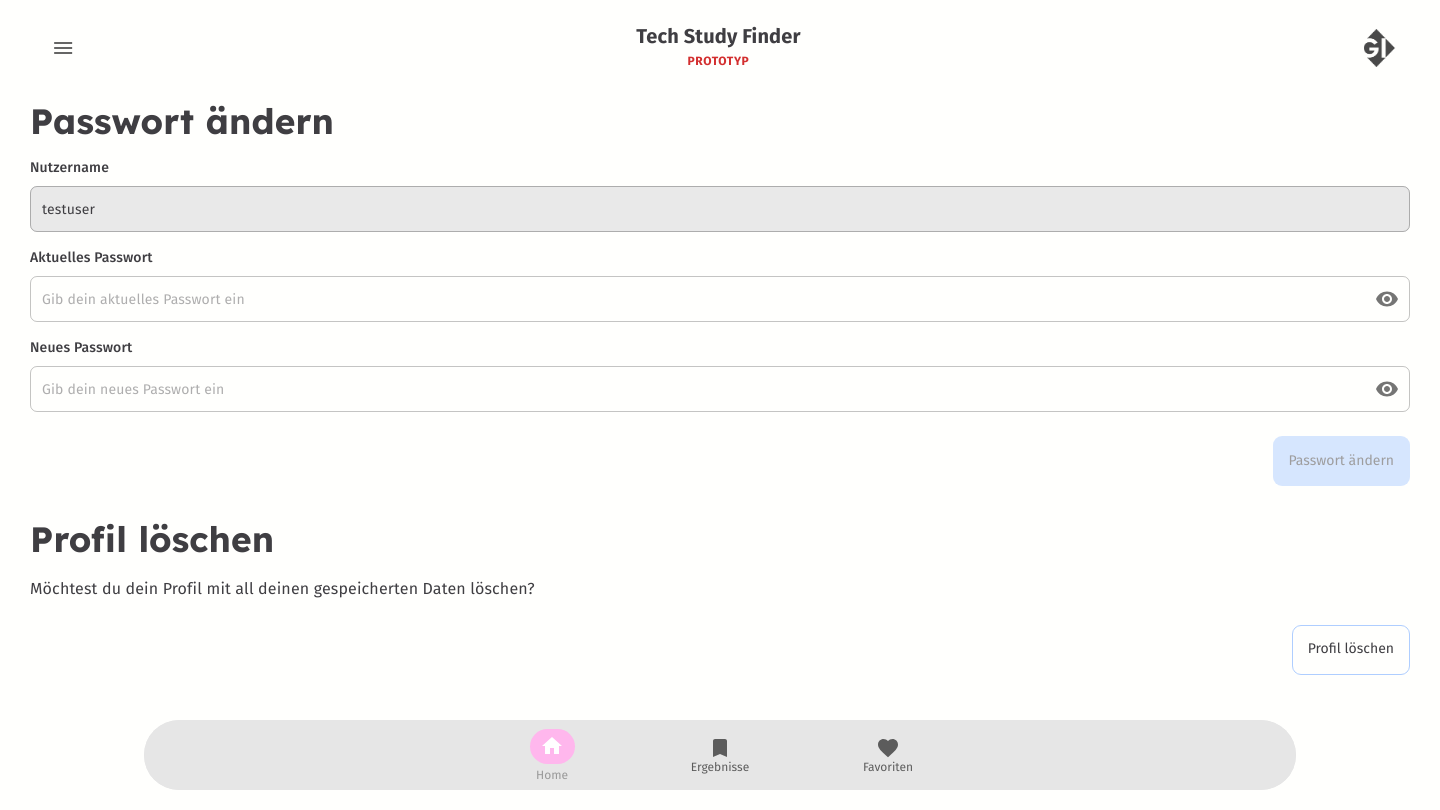
Test case: Settings Page › shows error if deleteUser fails
Click the button "Profil löschen" at (1351, 650), box [1292,624,1410,674]
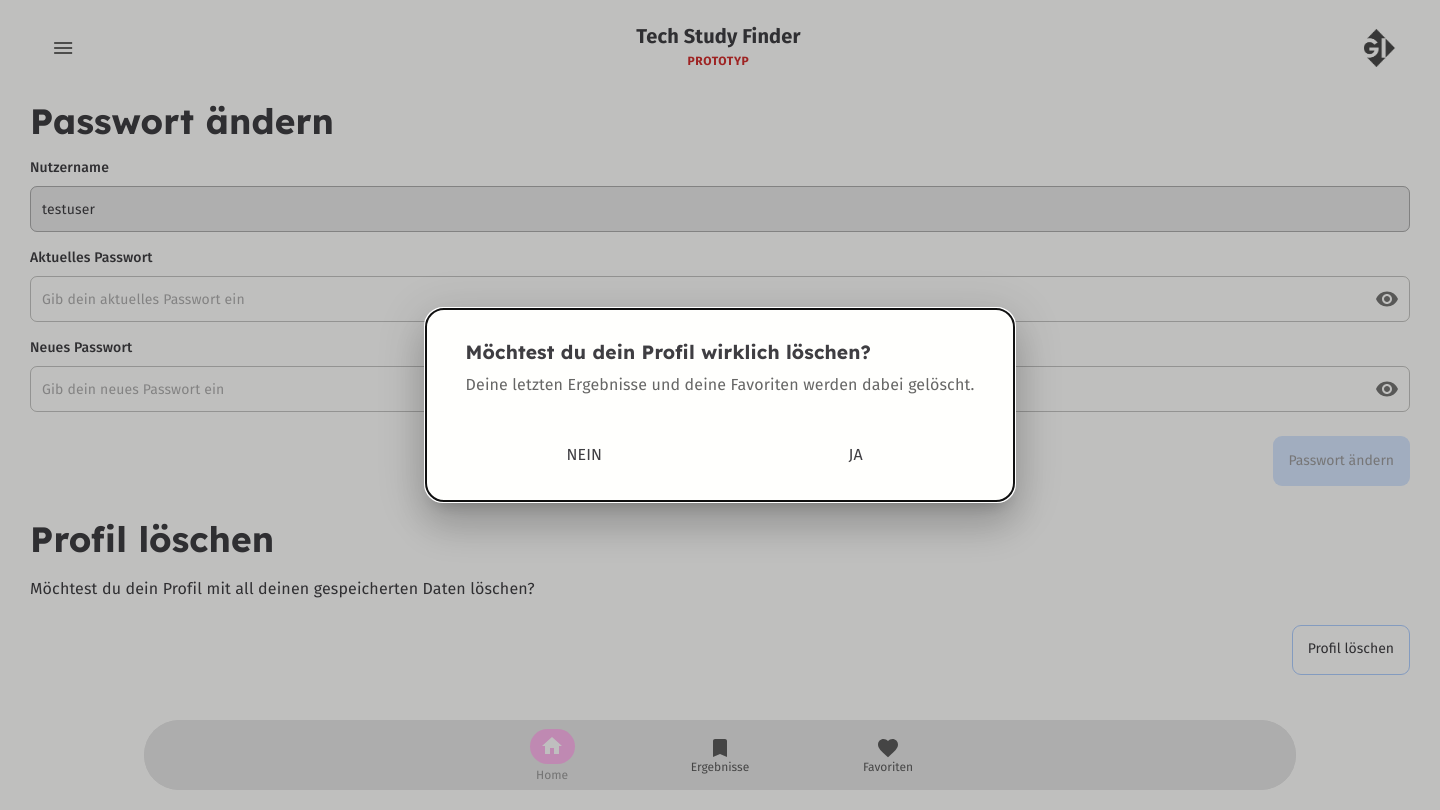
Click the text "JA" at (856, 454), box [848,444,863,464]
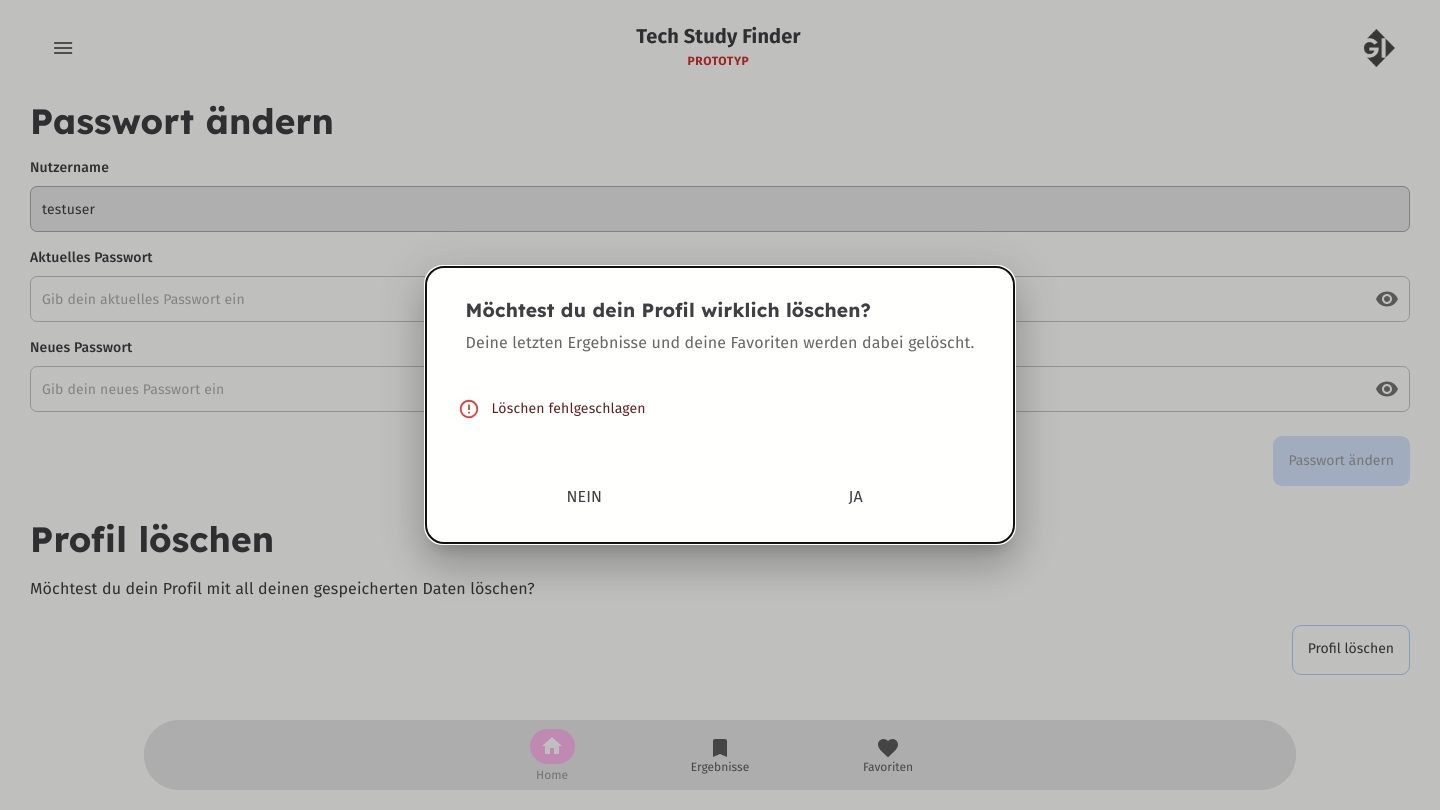
Check: the text "Löschen fehlgeschlagen" is shown, box [492,400,646,416]
